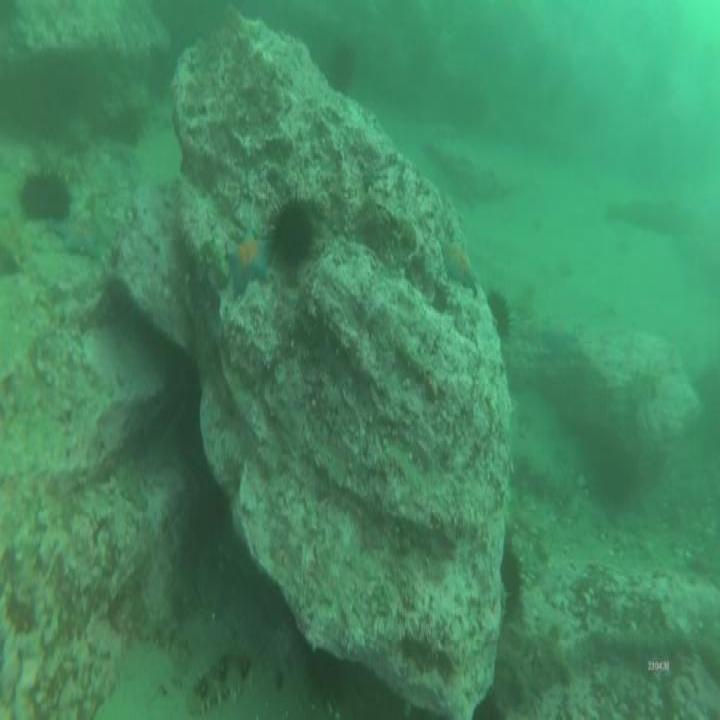echinus: (19, 171, 71, 222), (272, 204, 314, 265), (499, 553, 525, 610), (323, 47, 352, 92), (487, 288, 509, 331)
holothurian: (190, 644, 258, 710)
starfish: (587, 428, 630, 507), (224, 228, 273, 292), (441, 234, 480, 290), (56, 213, 100, 251)
